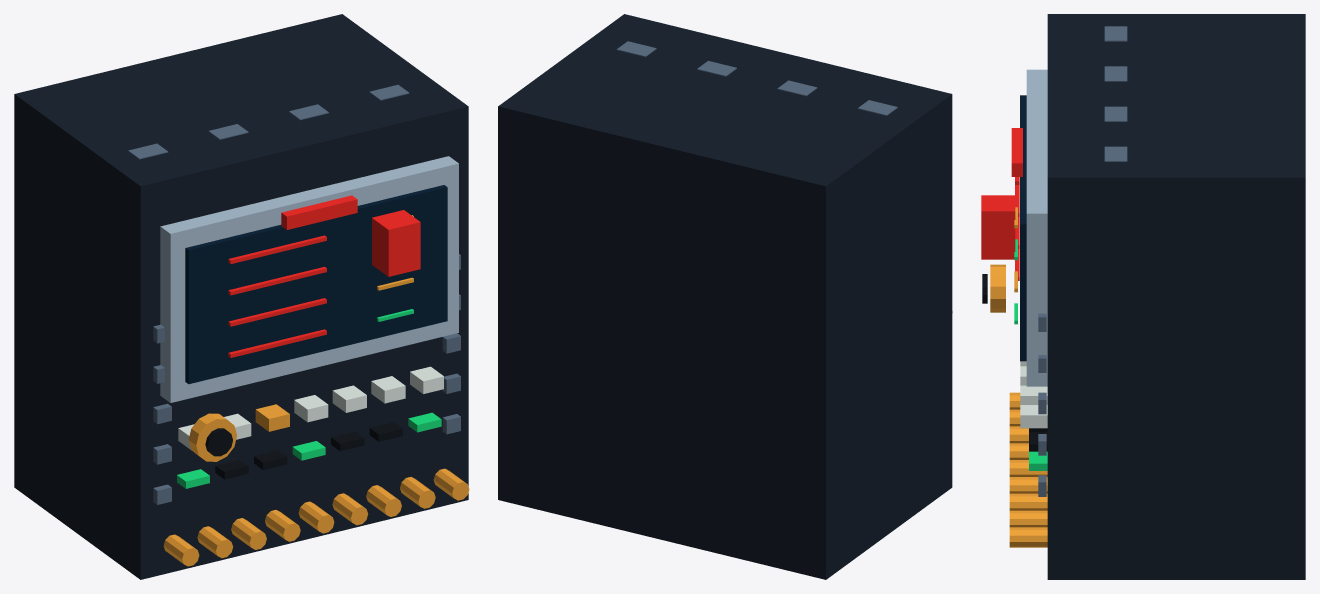
The model's file is 71_L88_HabitatMicroLeakFaultInjector.fbx.
3 views of the same model, side by side, from view 1: azimuth 30°, elevation 25°; view 2: azimuth 150°, elevation 25°; view 3: azimuth 270°, elevation 25° (orthographic). The views are drawn at different scales.
Parts seen in each view (by area): view 1: L87_HabitatMicroLeakFaultInjector_Part_0000, L87_HabitatMicroLeakFaultInjector_Part_0002, L87_HabitatMicroLeakFaultInjector_Part_0001, L87_HabitatMicroLeakFaultInjector_Part_0004, L87_HabitatMicroLeakFaultInjector_Part_0003, L87_HabitatMicroLeakFaultInjector_Part_0008, L87_HabitatMicroLeakFaultInjector_Part_0006, L87_HabitatMicroLeakFaultInjector_Part_0007, L87_HabitatMicroLeakFaultInjector_Part_0005, L87_HabitatMicroLeakFaultInjector_Part_0009, L87_HabitatMicroLeakFaultInjector_Part_0010, L87_HabitatMicroLeakFaultInjector_Part_0011; view 2: L87_HabitatMicroLeakFaultInjector_Part_0000, L87_HabitatMicroLeakFaultInjector_Part_0008; view 3: L87_HabitatMicroLeakFaultInjector_Part_0000, L87_HabitatMicroLeakFaultInjector_Part_0001, L87_HabitatMicroLeakFaultInjector_Part_0004, L87_HabitatMicroLeakFaultInjector_Part_0003, L87_HabitatMicroLeakFaultInjector_Part_0008, L87_HabitatMicroLeakFaultInjector_Part_0002, L87_HabitatMicroLeakFaultInjector_Part_0006, L87_HabitatMicroLeakFaultInjector_Part_0010, L87_HabitatMicroLeakFaultInjector_Part_0009, L87_HabitatMicroLeakFaultInjector_Part_0005.
Part boxes in pixels (box(x1,y1,x2,y2)): L87_HabitatMicroLeakFaultInjector_Part_0000: box(14, 14, 468, 579); L87_HabitatMicroLeakFaultInjector_Part_0002: box(185, 185, 447, 384); L87_HabitatMicroLeakFaultInjector_Part_0001: box(160, 156, 458, 402); L87_HabitatMicroLeakFaultInjector_Part_0004: box(163, 215, 469, 566); L87_HabitatMicroLeakFaultInjector_Part_0003: box(228, 210, 420, 357); L87_HabitatMicroLeakFaultInjector_Part_0008: box(128, 84, 460, 504); L87_HabitatMicroLeakFaultInjector_Part_0006: box(178, 366, 443, 450); L87_HabitatMicroLeakFaultInjector_Part_0007: box(215, 422, 402, 479); L87_HabitatMicroLeakFaultInjector_Part_0005: box(177, 309, 441, 488); L87_HabitatMicroLeakFaultInjector_Part_0009: box(281, 195, 357, 229); L87_HabitatMicroLeakFaultInjector_Part_0010: box(188, 413, 236, 461); L87_HabitatMicroLeakFaultInjector_Part_0011: box(205, 428, 232, 456); L87_HabitatMicroLeakFaultInjector_Part_0000: box(498, 14, 952, 579); L87_HabitatMicroLeakFaultInjector_Part_0008: box(616, 41, 897, 115); L87_HabitatMicroLeakFaultInjector_Part_0000: box(1047, 14, 1305, 579); L87_HabitatMicroLeakFaultInjector_Part_0001: box(1026, 69, 1047, 386); L87_HabitatMicroLeakFaultInjector_Part_0004: box(1009, 207, 1047, 547); L87_HabitatMicroLeakFaultInjector_Part_0003: box(981, 177, 1019, 280); L87_HabitatMicroLeakFaultInjector_Part_0008: box(1038, 26, 1127, 496); L87_HabitatMicroLeakFaultInjector_Part_0002: box(1020, 95, 1026, 361); L87_HabitatMicroLeakFaultInjector_Part_0006: box(1020, 361, 1047, 428); L87_HabitatMicroLeakFaultInjector_Part_0010: box(990, 264, 1005, 312); L87_HabitatMicroLeakFaultInjector_Part_0009: box(1011, 128, 1022, 176); L87_HabitatMicroLeakFaultInjector_Part_0005: box(1014, 239, 1047, 470).
Size of the model in its own units: 104 by 120 by 87.21.
